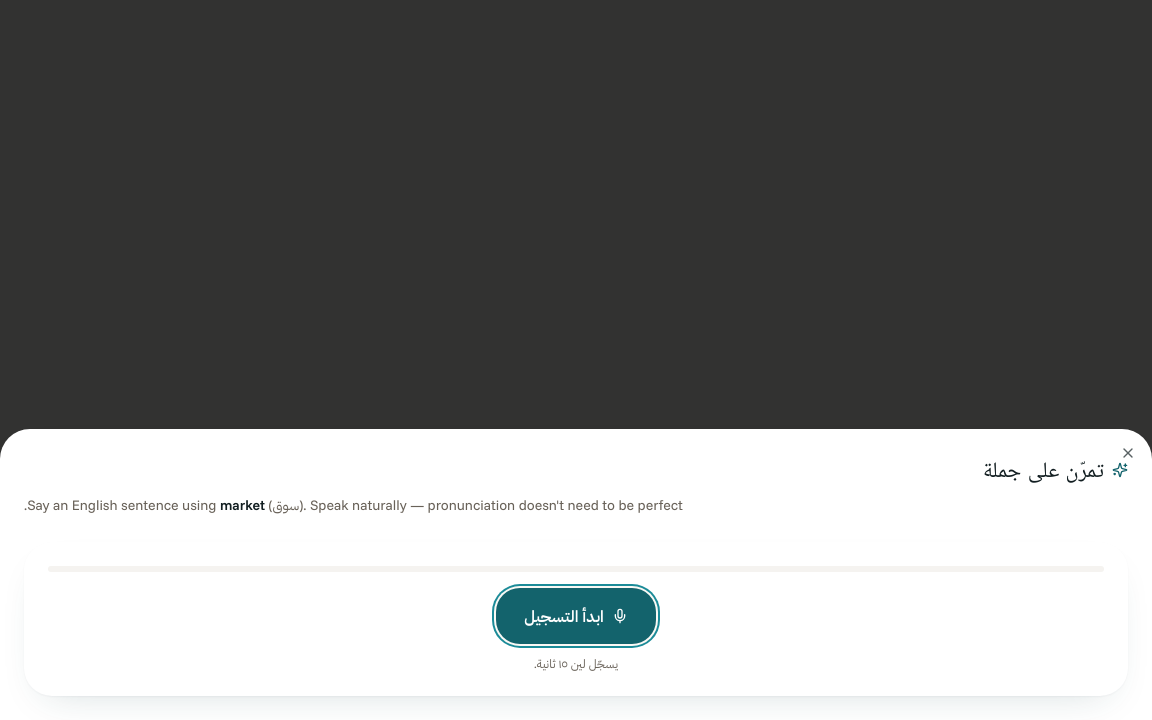
Test: recording › asks the learner to speak up when nothing was heard
Click the button "ابدأ التسجيل".
click(576, 616)  # box [496, 588, 656, 644]
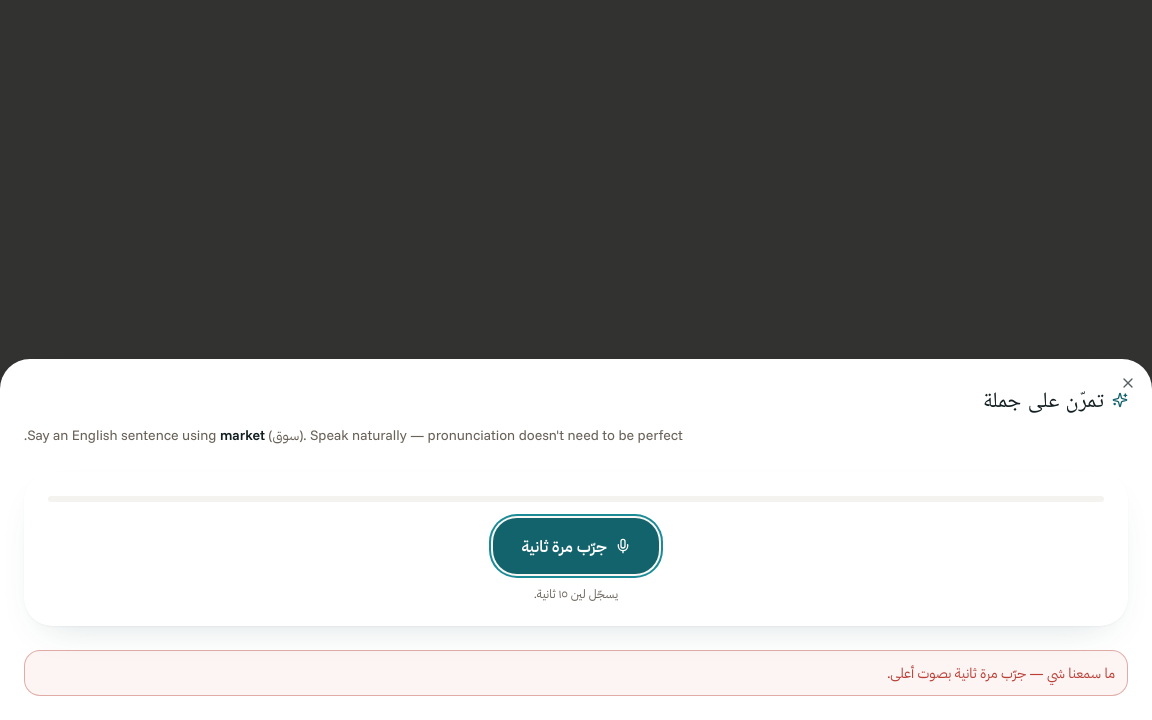
Expected: the text "ما سمعنا شي — جرّب مرة ثانية بصوت أعلى." is shown, [24, 650, 1128, 696]
